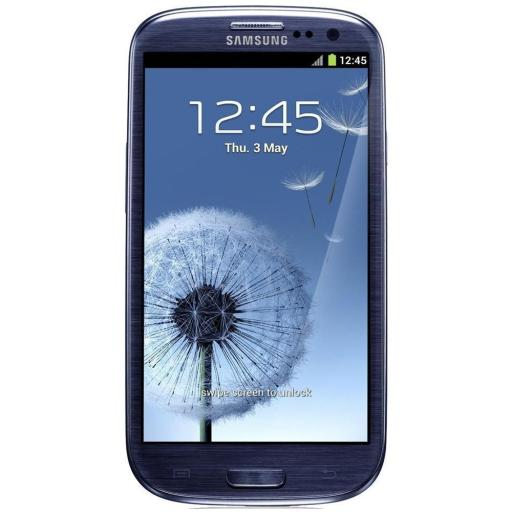phone: (112, 7, 392, 507)
